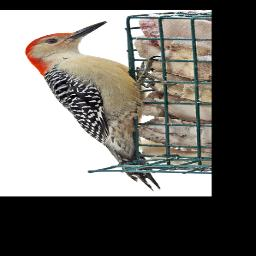Woodpecker: (25, 19, 163, 192)
